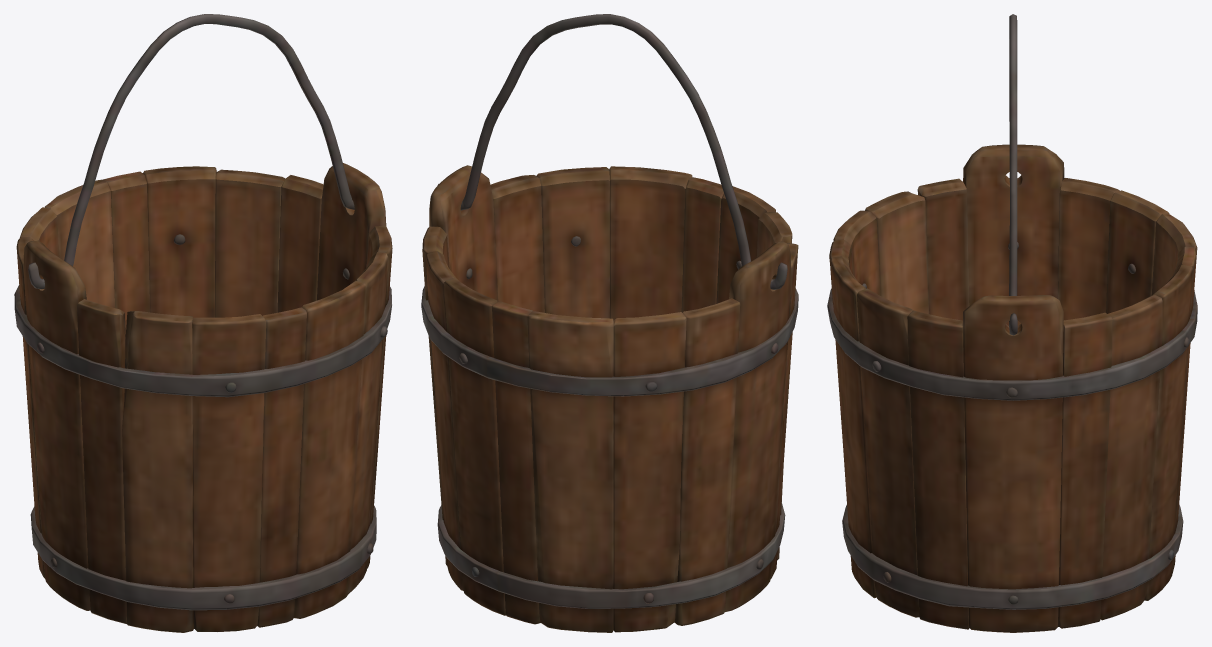
Rendered from wooden-bucket-01.glb.
3 renders of one model, left to right at view 1: azimuth 30°, elevation 25°; view 2: azimuth 150°, elevation 25°; view 3: azimuth 270°, elevation 25°, orthographic.
Visible parts, largest first — view 1: wooden_bucket_01, wooden_bucket_01_handle; view 2: wooden_bucket_01, wooden_bucket_01_handle; view 3: wooden_bucket_01, wooden_bucket_01_handle.
Part boxes in pixels (x1=…): wooden_bucket_01: x1=14, y1=163, x2=392, y2=632; wooden_bucket_01_handle: x1=28, y1=14, x2=354, y2=289; wooden_bucket_01: x1=421, y1=165, x2=798, y2=632; wooden_bucket_01_handle: x1=438, y1=14, x2=787, y2=289; wooden_bucket_01: x1=827, y1=144, x2=1197, y2=632; wooden_bucket_01_handle: x1=1009, y1=14, x2=1017, y2=335.
Size of the model in its own units: 0.3669 by 0.5498 by 0.3422.
1 material, 1 textured.
